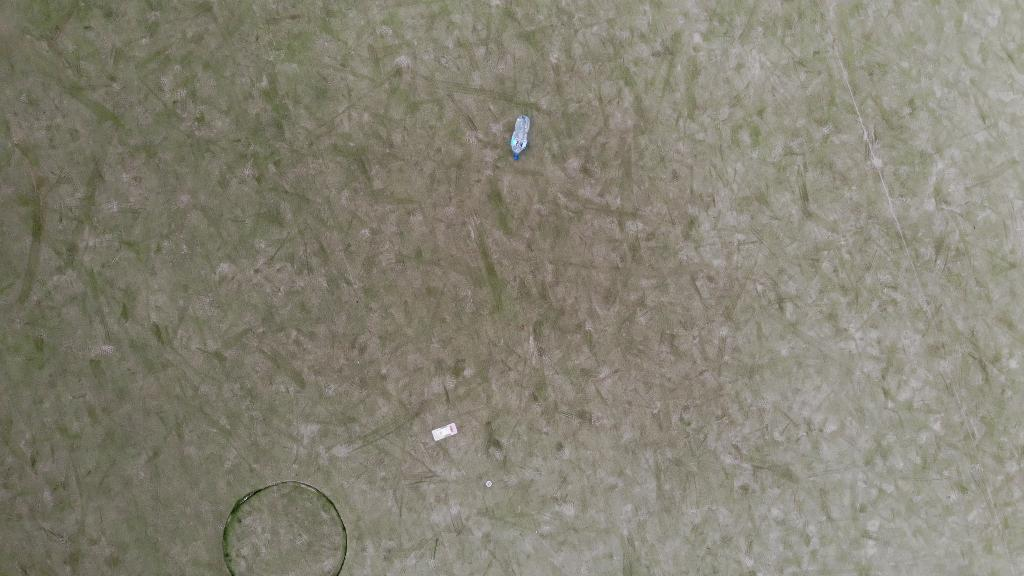garbage: (509, 114, 532, 162)
